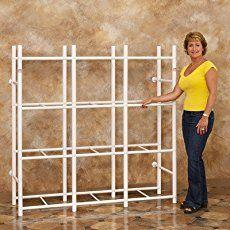PVC: (25, 193, 174, 205), (16, 43, 23, 219), (122, 43, 129, 208), (110, 45, 117, 202), (12, 55, 177, 61), (71, 45, 76, 212), (10, 43, 15, 207), (62, 46, 67, 204), (11, 145, 164, 150), (15, 189, 168, 194), (15, 102, 142, 107), (172, 107, 178, 207), (122, 156, 132, 187), (66, 150, 126, 155), (172, 46, 178, 93), (129, 149, 172, 154), (157, 110, 163, 145), (157, 152, 162, 189), (156, 155, 162, 184), (112, 157, 117, 189), (23, 156, 68, 159)
